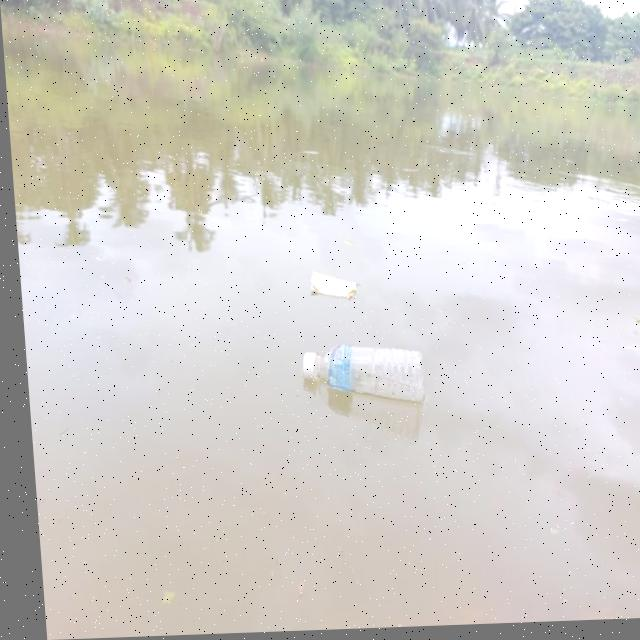paper: (303, 271, 350, 310)
waterbottle: (282, 333, 439, 422)
